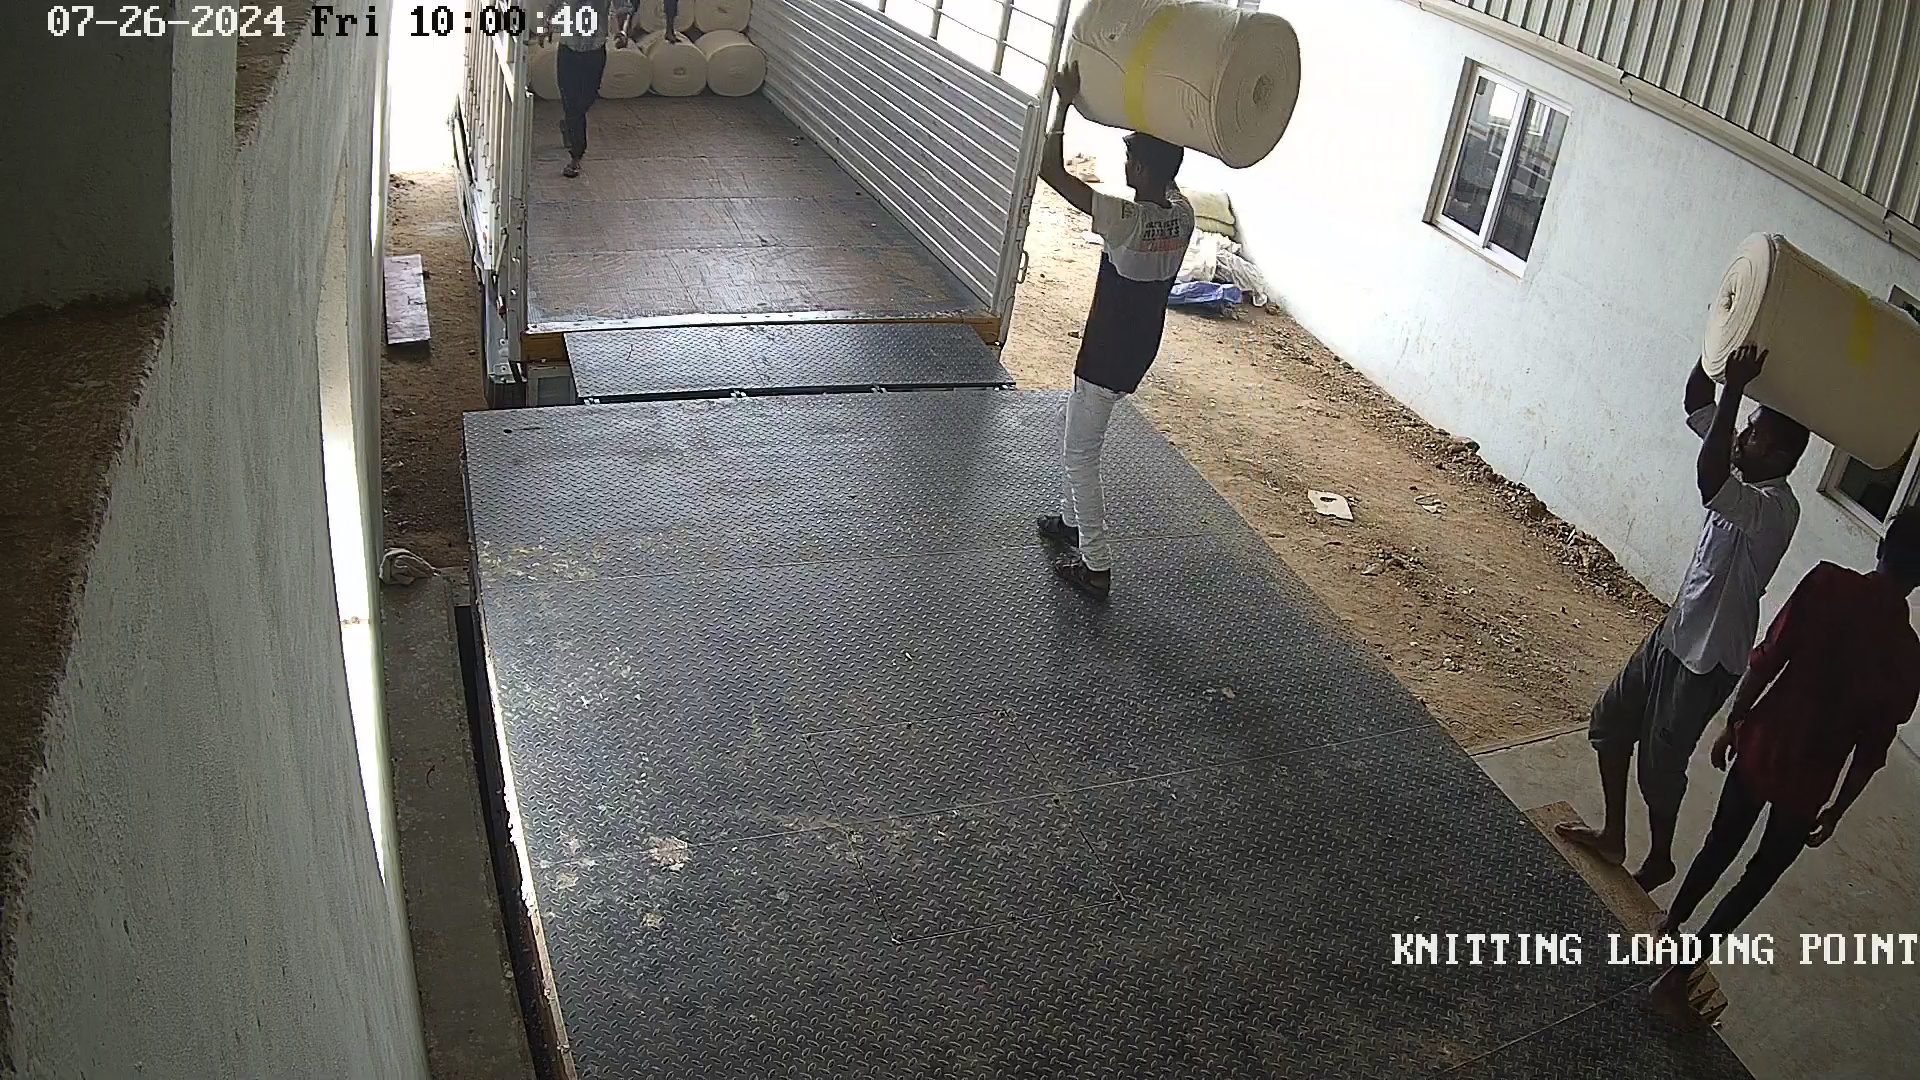bag: (1033, 1, 1311, 174)
